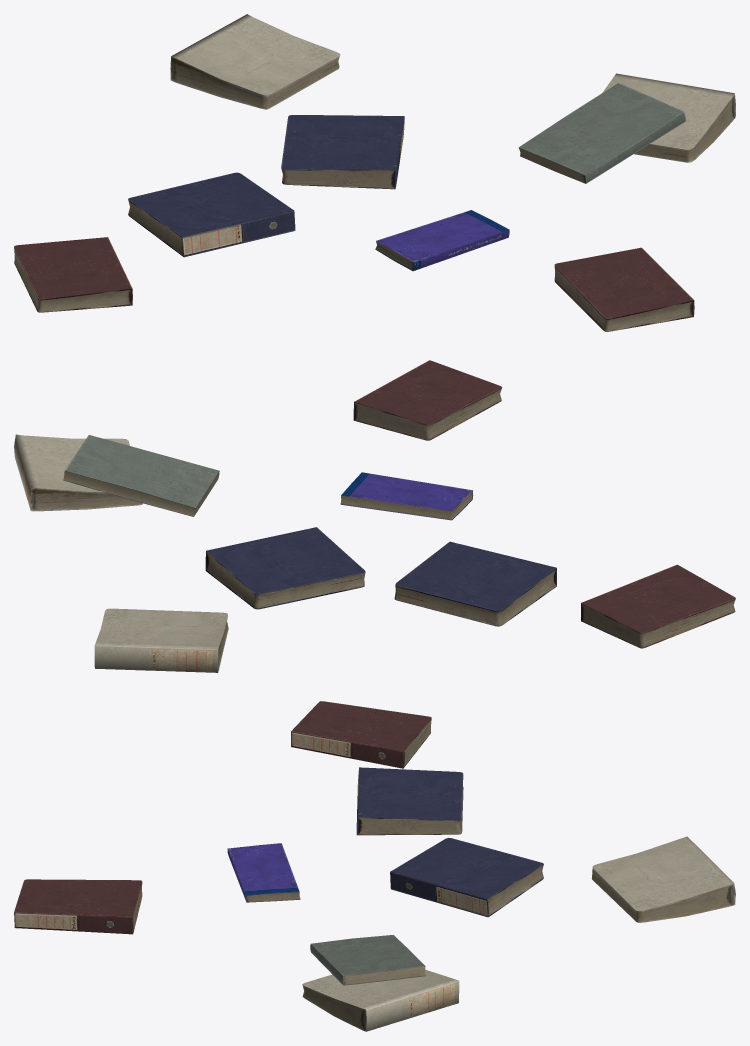
Rendered from sm39_017_failingfilersset01a.fbx.
3 renders of one model, top to bottom at view 1: azimuth 30°, elevation 25°; view 2: azimuth 150°, elevation 25°; view 3: azimuth 270°, elevation 25°, orthographic. The views are drawn at different scales.
Visible parts, largest first — view 1: LOD_1_Group_5_Sub_1__sm36_007_PaperWork01A_A_Mat__Env_defaul, LOD_1_Group_1_Sub_1__sm36_007_PaperWork01A_A_Mat__Env_defaul, LOD_1_Group_3_Sub_1__sm36_007_PaperWork01A_A_Mat__Env_defaul, LOD_1_Group_0_Sub_1__sm36_007_PaperWork01A_A_Mat__Env_defaul, LOD_1_Group_7_Sub_1__sm36_007_PaperWork01A_A_Mat__Env_defaul, LOD_1_Group_6_Sub_1__sm36_007_PaperWork01A_A_Mat__Env_defaul, LOD_1_Group_4_Sub_1__sm36_007_PaperWork01A_A_Mat__Env_defaul, LOD_1_Group_2_Sub_1__sm36_007_PaperWork01A_A_Mat__Env_defaul; view 2: LOD_1_Group_1_Sub_1__sm36_007_PaperWork01A_A_Mat__Env_defaul, LOD_1_Group_0_Sub_1__sm36_007_PaperWork01A_A_Mat__Env_defaul, LOD_1_Group_6_Sub_1__sm36_007_PaperWork01A_A_Mat__Env_defaul, LOD_1_Group_5_Sub_1__sm36_007_PaperWork01A_A_Mat__Env_defaul, LOD_1_Group_7_Sub_1__sm36_007_PaperWork01A_A_Mat__Env_defaul, LOD_1_Group_3_Sub_1__sm36_007_PaperWork01A_A_Mat__Env_defaul, LOD_1_Group_4_Sub_1__sm36_007_PaperWork01A_A_Mat__Env_defaul, LOD_1_Group_2_Sub_1__sm36_007_PaperWork01A_A_Mat__Env_defaul; view 3: LOD_1_Group_5_Sub_1__sm36_007_PaperWork01A_A_Mat__Env_defaul, LOD_1_Group_0_Sub_1__sm36_007_PaperWork01A_A_Mat__Env_defaul, LOD_1_Group_1_Sub_1__sm36_007_PaperWork01A_A_Mat__Env_defaul, LOD_1_Group_6_Sub_1__sm36_007_PaperWork01A_A_Mat__Env_defaul, LOD_1_Group_7_Sub_1__sm36_007_PaperWork01A_A_Mat__Env_defaul, LOD_1_Group_4_Sub_1__sm36_007_PaperWork01A_A_Mat__Env_defaul, LOD_1_Group_3_Sub_1__sm36_007_PaperWork01A_A_Mat__Env_defaul, LOD_1_Group_2_Sub_1__sm36_007_PaperWork01A_A_Mat__Env_defaul.
Part boxes in pixels (bbox=[...]): LOD_1_Group_5_Sub_1__sm36_007_PaperWork01A_A_Mat__Env_defaul: bbox=[170, 14, 340, 109]; LOD_1_Group_1_Sub_1__sm36_007_PaperWork01A_A_Mat__Env_defaul: bbox=[128, 172, 295, 257]; LOD_1_Group_3_Sub_1__sm36_007_PaperWork01A_A_Mat__Env_defaul: bbox=[518, 82, 685, 183]; LOD_1_Group_0_Sub_1__sm36_007_PaperWork01A_A_Mat__Env_defaul: bbox=[281, 115, 404, 189]; LOD_1_Group_7_Sub_1__sm36_007_PaperWork01A_A_Mat__Env_defaul: bbox=[554, 247, 694, 331]; LOD_1_Group_6_Sub_1__sm36_007_PaperWork01A_A_Mat__Env_defaul: bbox=[14, 237, 132, 312]; LOD_1_Group_4_Sub_1__sm36_007_PaperWork01A_A_Mat__Env_defaul: bbox=[602, 73, 735, 162]; LOD_1_Group_2_Sub_1__sm36_007_PaperWork01A_A_Mat__Env_defaul: bbox=[375, 210, 509, 271]; LOD_1_Group_1_Sub_1__sm36_007_PaperWork01A_A_Mat__Env_defaul: bbox=[394, 541, 556, 626]; LOD_1_Group_0_Sub_1__sm36_007_PaperWork01A_A_Mat__Env_defaul: bbox=[205, 527, 365, 609]; LOD_1_Group_6_Sub_1__sm36_007_PaperWork01A_A_Mat__Env_defaul: bbox=[581, 564, 735, 648]; LOD_1_Group_5_Sub_1__sm36_007_PaperWork01A_A_Mat__Env_defaul: bbox=[94, 608, 228, 672]; LOD_1_Group_7_Sub_1__sm36_007_PaperWork01A_A_Mat__Env_defaul: bbox=[353, 360, 502, 440]; LOD_1_Group_3_Sub_1__sm36_007_PaperWork01A_A_Mat__Env_defaul: bbox=[63, 435, 219, 516]; LOD_1_Group_4_Sub_1__sm36_007_PaperWork01A_A_Mat__Env_defaul: bbox=[14, 434, 142, 511]; LOD_1_Group_2_Sub_1__sm36_007_PaperWork01A_A_Mat__Env_defaul: bbox=[340, 472, 473, 520]; LOD_1_Group_5_Sub_1__sm36_007_PaperWork01A_A_Mat__Env_defaul: bbox=[591, 836, 735, 922]; LOD_1_Group_0_Sub_1__sm36_007_PaperWork01A_A_Mat__Env_defaul: bbox=[390, 838, 543, 917]; LOD_1_Group_1_Sub_1__sm36_007_PaperWork01A_A_Mat__Env_defaul: bbox=[356, 767, 463, 835]; LOD_1_Group_6_Sub_1__sm36_007_PaperWork01A_A_Mat__Env_defaul: bbox=[291, 701, 431, 768]; LOD_1_Group_7_Sub_1__sm36_007_PaperWork01A_A_Mat__Env_defaul: bbox=[14, 879, 142, 934]; LOD_1_Group_4_Sub_1__sm36_007_PaperWork01A_A_Mat__Env_defaul: bbox=[302, 969, 459, 1031]; LOD_1_Group_3_Sub_1__sm36_007_PaperWork01A_A_Mat__Env_defaul: bbox=[310, 935, 425, 985]; LOD_1_Group_2_Sub_1__sm36_007_PaperWork01A_A_Mat__Env_defaul: bbox=[227, 843, 300, 902].
Size of the model in its own units: 2.08 by 0.1038 by 1.99.
